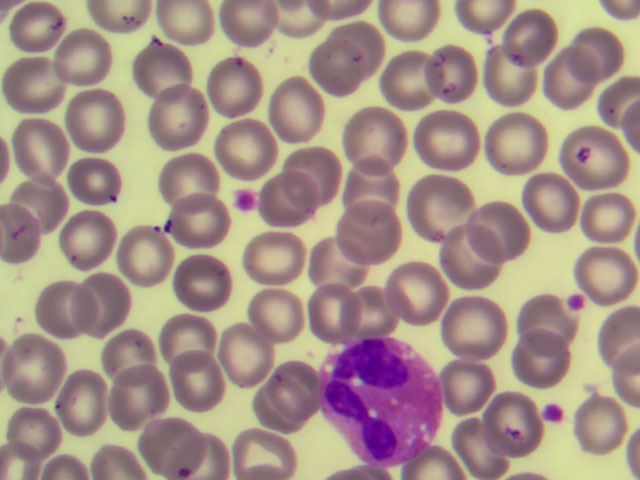Platelets: (232, 189, 255, 213), (542, 402, 563, 424), (568, 291, 586, 310)
RBC: (455, 427, 509, 480), (197, 427, 251, 480), (12, 4, 66, 56), (46, 24, 100, 76), (15, 60, 69, 112), (66, 95, 120, 147), (20, 120, 74, 172), (15, 172, 69, 224), (6, 208, 60, 260), (67, 154, 121, 206), (66, 224, 120, 276), (82, 273, 136, 325), (42, 282, 96, 334), (10, 335, 64, 387), (45, 378, 99, 430), (109, 344, 163, 396), (117, 371, 171, 423), (138, 413, 192, 465), (5, 403, 59, 455), (168, 358, 222, 410), (164, 308, 218, 360), (178, 255, 232, 307), (124, 227, 178, 279), (175, 194, 229, 246), (167, 155, 221, 207), (156, 93, 210, 145), (139, 44, 193, 96), (204, 58, 258, 110), (221, 117, 275, 169), (260, 176, 314, 228), (280, 145, 334, 197), (276, 84, 330, 136), (302, 34, 356, 86), (336, 21, 390, 73), (386, 54, 440, 106), (414, 49, 468, 101), (420, 111, 474, 163), (351, 110, 405, 162), (346, 153, 400, 205), (347, 210, 401, 262), (311, 233, 365, 285), (303, 285, 357, 337), (339, 282, 393, 334), (389, 264, 443, 316), (442, 229, 496, 281), (475, 204, 529, 256), (420, 178, 474, 230), (492, 120, 546, 172), (479, 47, 533, 99), (509, 14, 563, 66), (536, 49, 590, 101), (565, 32, 619, 84), (569, 128, 623, 180), (521, 174, 575, 226), (571, 239, 625, 291), (586, 181, 640, 233), (438, 294, 492, 346), (527, 286, 581, 338), (530, 329, 584, 381), (487, 405, 541, 457), (444, 361, 498, 413), (569, 390, 623, 442), (246, 426, 300, 478), (259, 382, 313, 434), (268, 364, 322, 416), (218, 320, 272, 372), (259, 287, 313, 339), (254, 234, 308, 286)
WBC: (321, 333, 454, 464)
